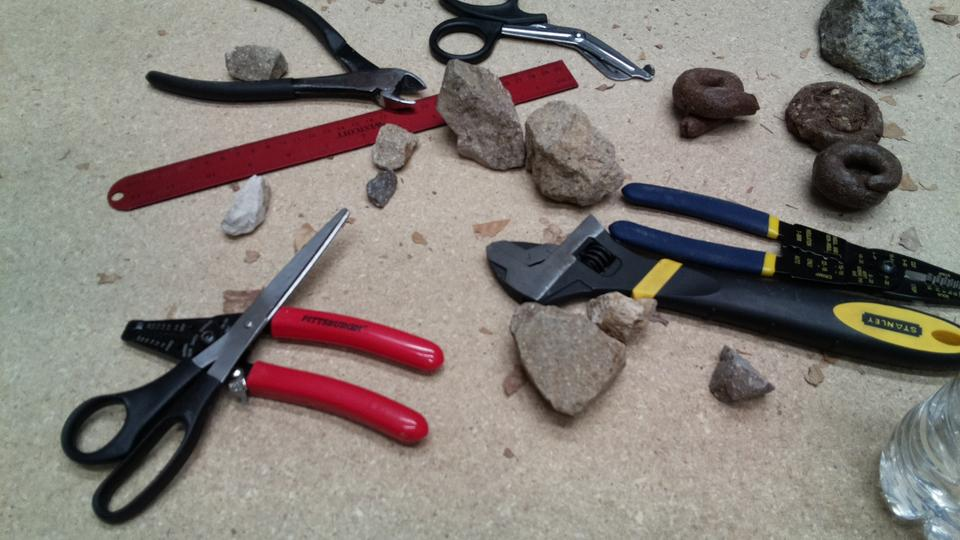poop: (667, 62, 763, 142), (783, 80, 884, 149), (809, 138, 905, 209)
